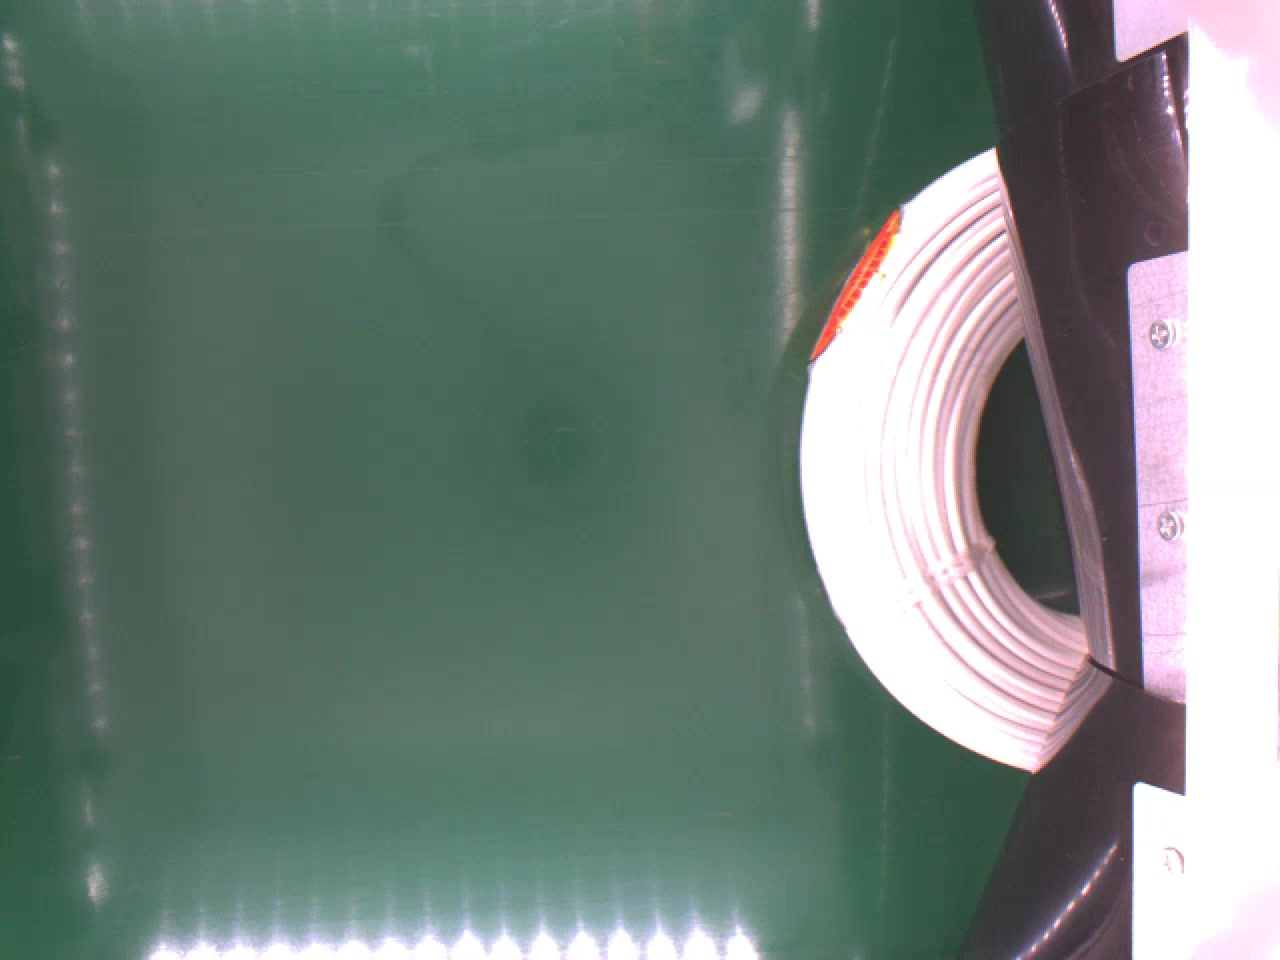white: (799, 152, 1085, 767)
